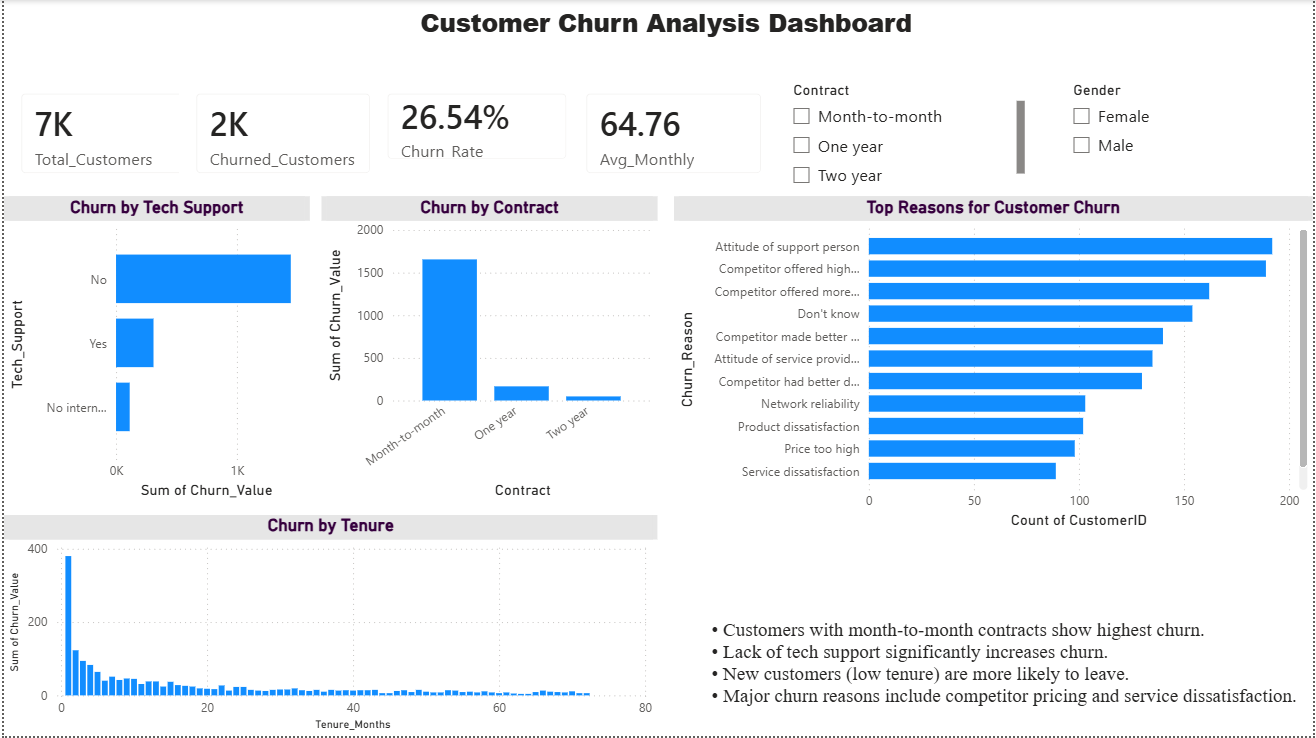

What the dashboard file says about the page in this screenshot:
{"tool":"powerbi","page":{"name":"Page 1","canvas":[1280,720],"ordinal":0},"visuals":[{"type":"cardVisual","fields":{"Data":["churn_data.Total_Customers"]},"box":[0,74.1,200.3,112.5],"z":0},{"type":"cardVisual","fields":{"Data":["churn_data.Churned_Customers"]},"box":[171.5,74.1,204.5,112.5],"z":1000},{"type":"cardVisual","fields":{"Data":["churn_data.Churn_Rate"]},"box":[358.1,74.1,209.9,98.8],"z":2000},{"type":"cardVisual","fields":{"Data":["churn_data.Avg_Monthly"]},"box":[553,74.1,205.8,112.5],"z":3000},{"type":"clusteredColumnChart","title":"Churn by Contract","fields":{"Category":["churn_data.Contract"],"Y":["Sum(churn_data.Churn_Value)"]},"box":[310.6,192,328.9,300.8],"z":4000},{"type":"barChart","title":"Churn by Tech Support","fields":{"Category":["churn_data.Tech_Support"],"Y":["Sum(churn_data.Churn_Value)"]},"box":[0,192.1,299.1,300.5],"z":5000},{"type":"columnChart","title":"Churn by Tenure","fields":{"Category":["churn_data.Tenure_Months"],"Y":["Sum(churn_data.Churn_Value)"]},"box":[0,503.8,639.5,216.4],"z":6000},{"type":"clusteredBarChart","title":"Top Reasons for Customer Churn","fields":{"Category":["churn_data.Churn_Reason"],"Y":["CountNonNull(churn_data.CustomerID)"]},"box":[655.4,192,624.9,330.2],"z":7000},{"type":"slicer","fields":{"Values":["churn_data.Gender"]},"box":[1033.3,74.1,247,98.8],"z":8000},{"type":"slicer","fields":{"Values":["churn_data.Contract"]},"box":[758.8,74.1,244.3,112.5],"z":9000},{"type":"textbox","box":[326.6,0,642.2,54.9],"z":9001},{"type":"textbox","box":[687.2,600.4,593.1,119.8],"z":9002}]}

Visuals, with their boxes in screenshot pixels (x1, y1, x2, y2), scaled from the page's 1280x720 canvas onto the 1316x738 screenshot:
cardVisual - churn_data.Total_Customers: <bbox>0, 76, 206, 191</bbox>
cardVisual - churn_data.Churned_Customers: <bbox>176, 76, 387, 191</bbox>
cardVisual - churn_data.Churn_Rate: <bbox>368, 76, 584, 177</bbox>
cardVisual - churn_data.Avg_Monthly: <bbox>569, 76, 780, 191</bbox>
"Churn by Contract" clusteredColumnChart: <bbox>319, 197, 657, 505</bbox>
"Churn by Tech Support" barChart: <bbox>0, 197, 308, 505</bbox>
"Churn by Tenure" columnChart: <bbox>0, 516, 657, 737</bbox>
"Top Reasons for Customer Churn" clusteredBarChart: <bbox>674, 197, 1315, 535</bbox>
slicer - churn_data.Gender: <bbox>1062, 76, 1315, 177</bbox>
slicer - churn_data.Contract: <bbox>780, 76, 1031, 191</bbox>
textbox: <bbox>336, 0, 996, 56</bbox>
textbox: <bbox>707, 615, 1315, 737</bbox>
